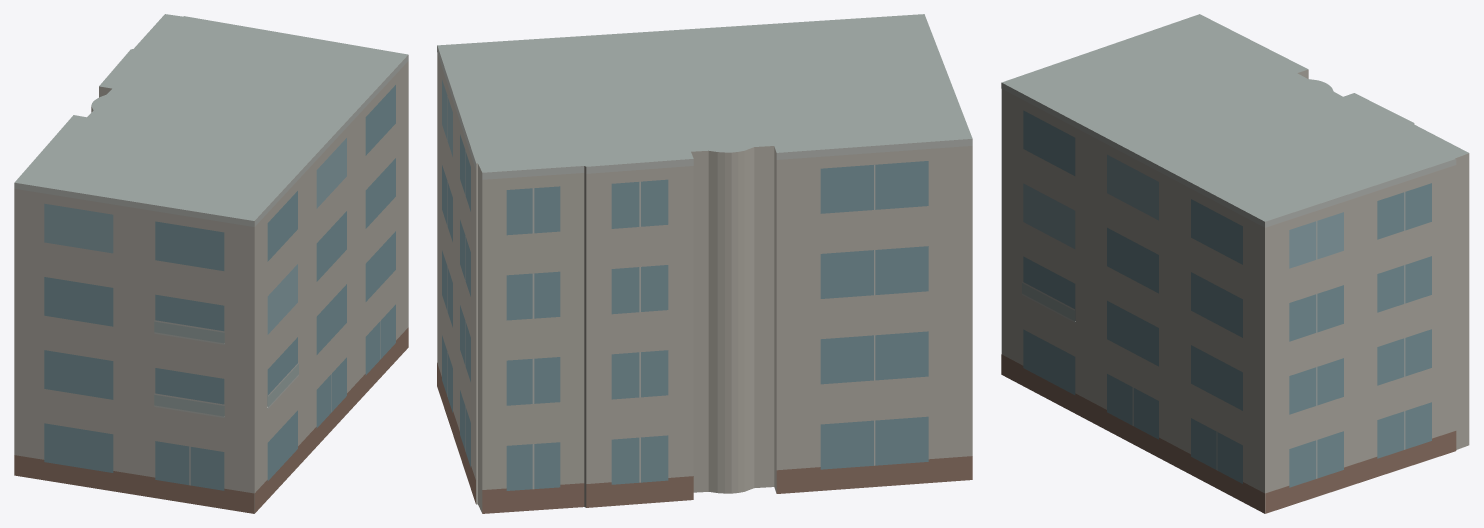
Rendered from survey-upis-32834901.glb.
The picture shows the model from 3 angles, left to right: view 1: azimuth 30°, elevation 25°; view 2: azimuth 150°, elevation 25°; view 3: azimuth 270°, elevation 25°; orthographic projection. The views are drawn at different scales.
Visible parts, largest first — view 1: survey-upis-32834901.tmp; view 2: survey-upis-32834901.tmp; view 3: survey-upis-32834901.tmp.
Part boxes in pixels (box(x1,y1,x2,y2)): survey-upis-32834901.tmp: box(14, 14, 408, 513); survey-upis-32834901.tmp: box(437, 14, 972, 513); survey-upis-32834901.tmp: box(1001, 14, 1469, 513).
Size of the model in its own units: 18.01 by 11.8 by 17.14.
